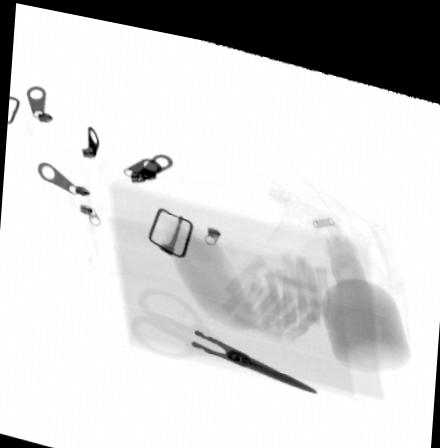Scissors: (129, 277, 317, 382)
